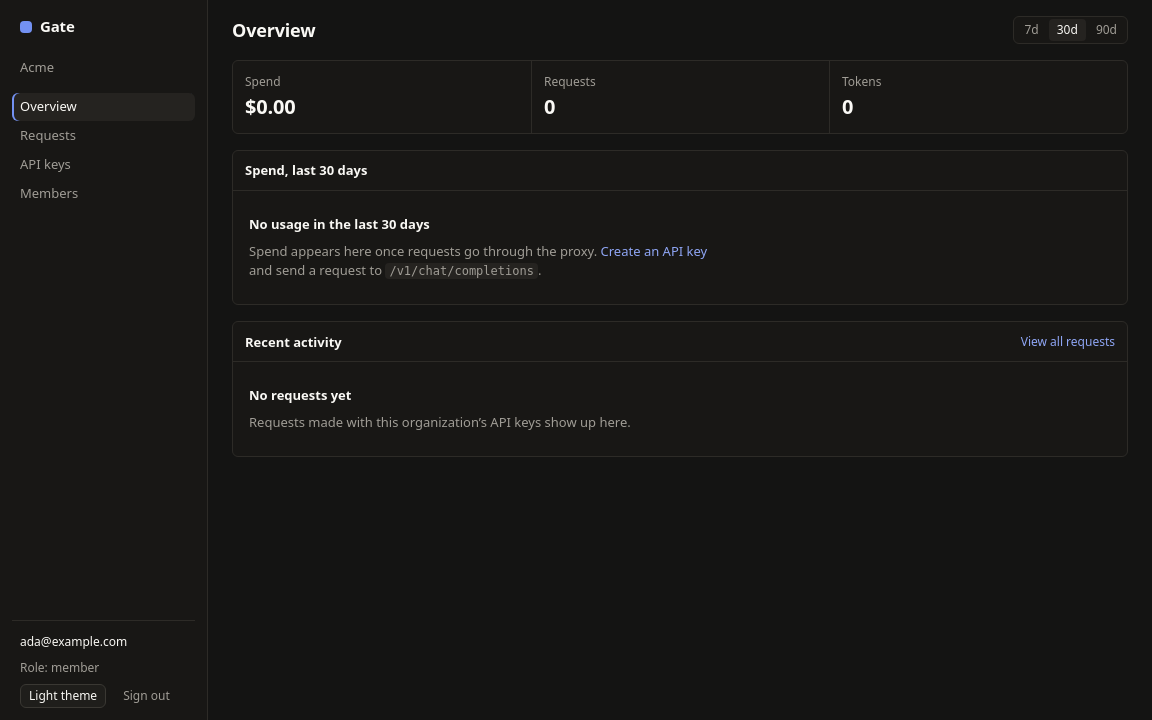
it: overview: usage › changing the range asks for that range
This screenshot has width=1152, height=720.
Expected: the heading "No usage in the last 30 days" is shown, [249, 215, 430, 234]
Click the button "7d" at (1032, 30), box [1016, 19, 1047, 41]
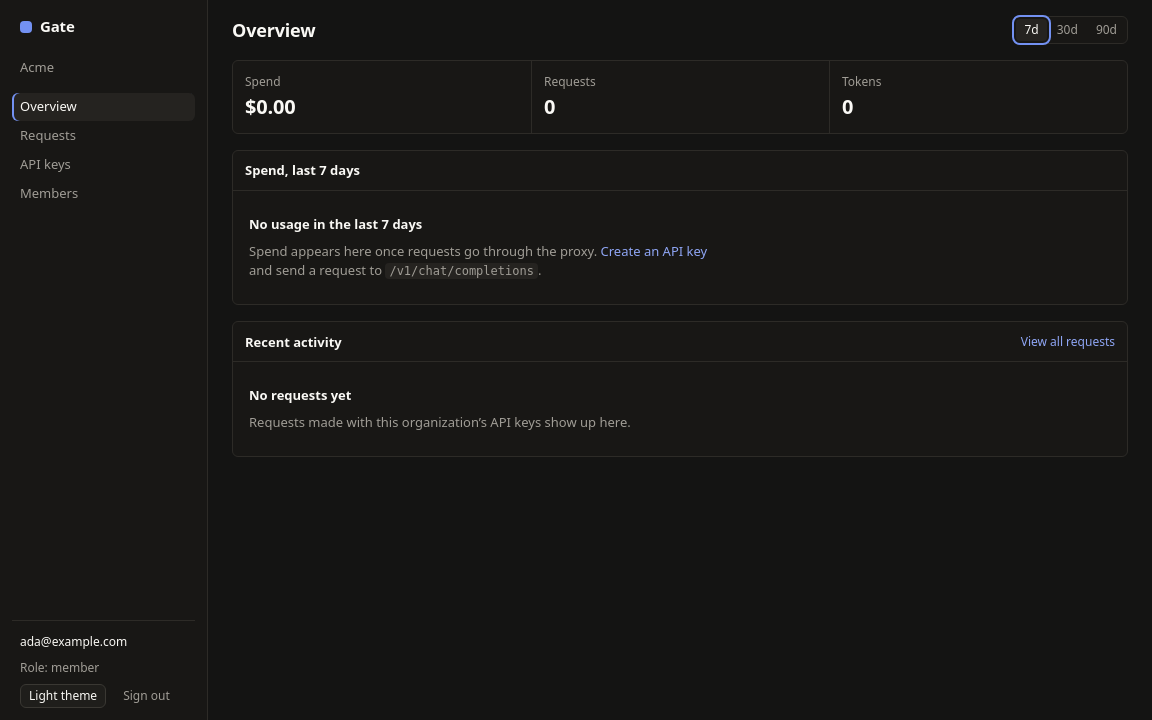
Result: the heading "No usage in the last 7 days" is shown at [249, 215, 422, 234]
